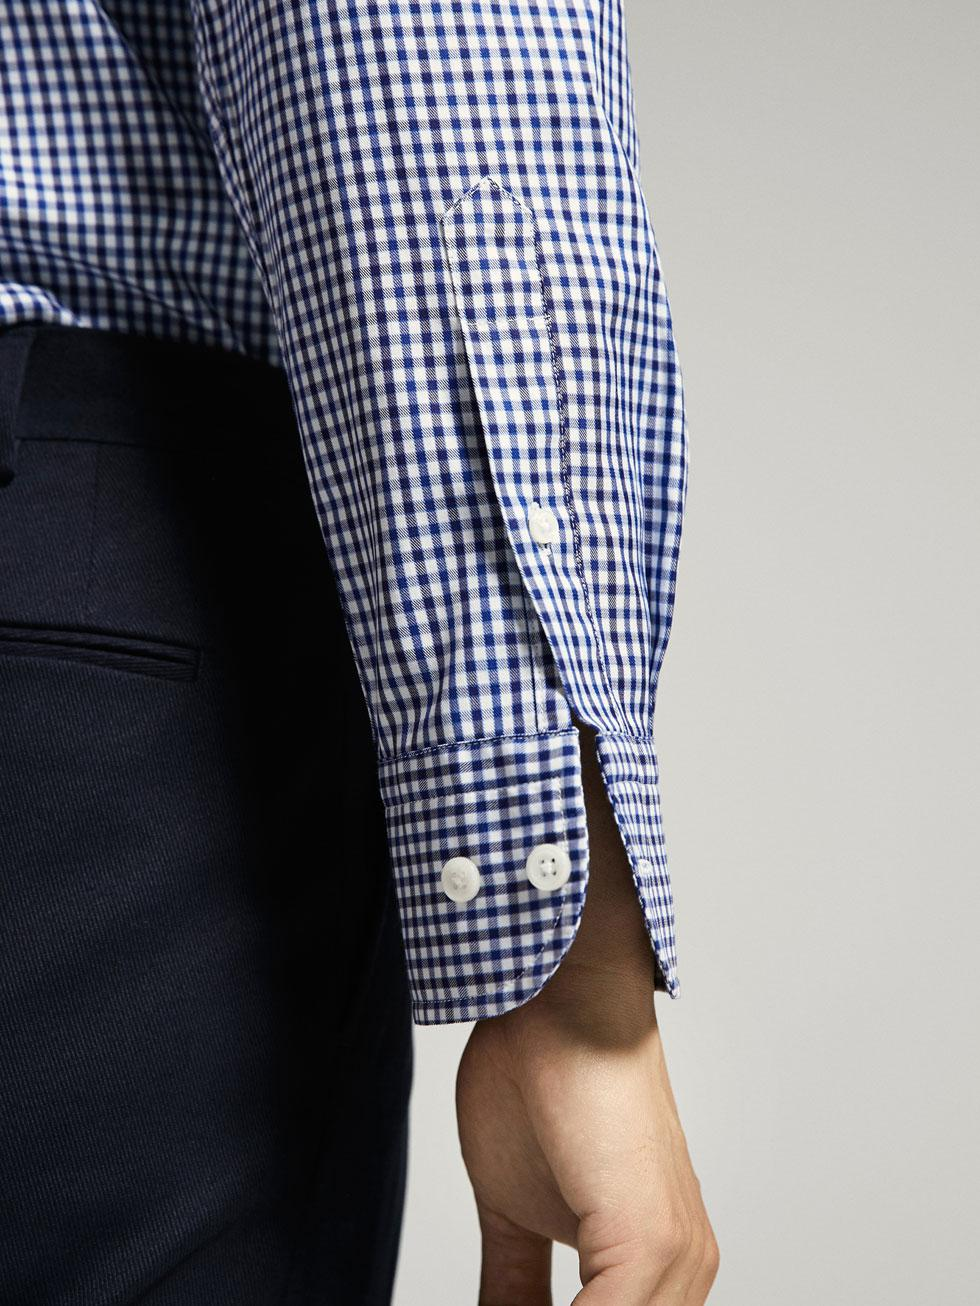teeshirt: (1, 2, 731, 1009)
